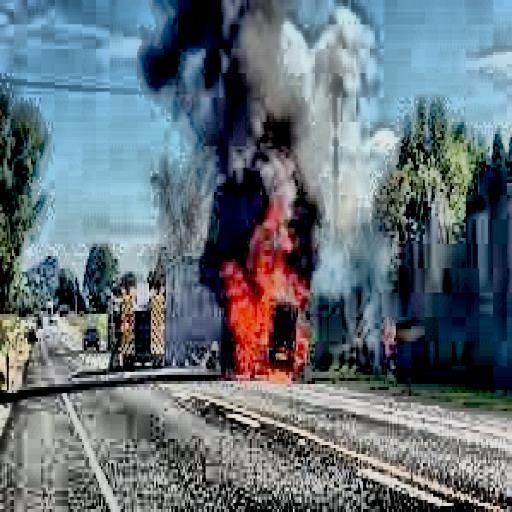fire: (206, 204, 315, 396)
